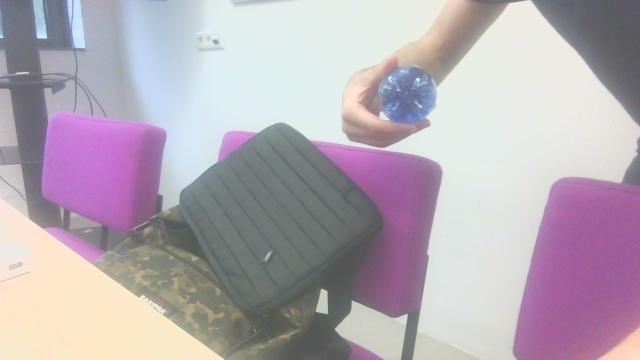plastic_bottle: (372, 61, 440, 123)
